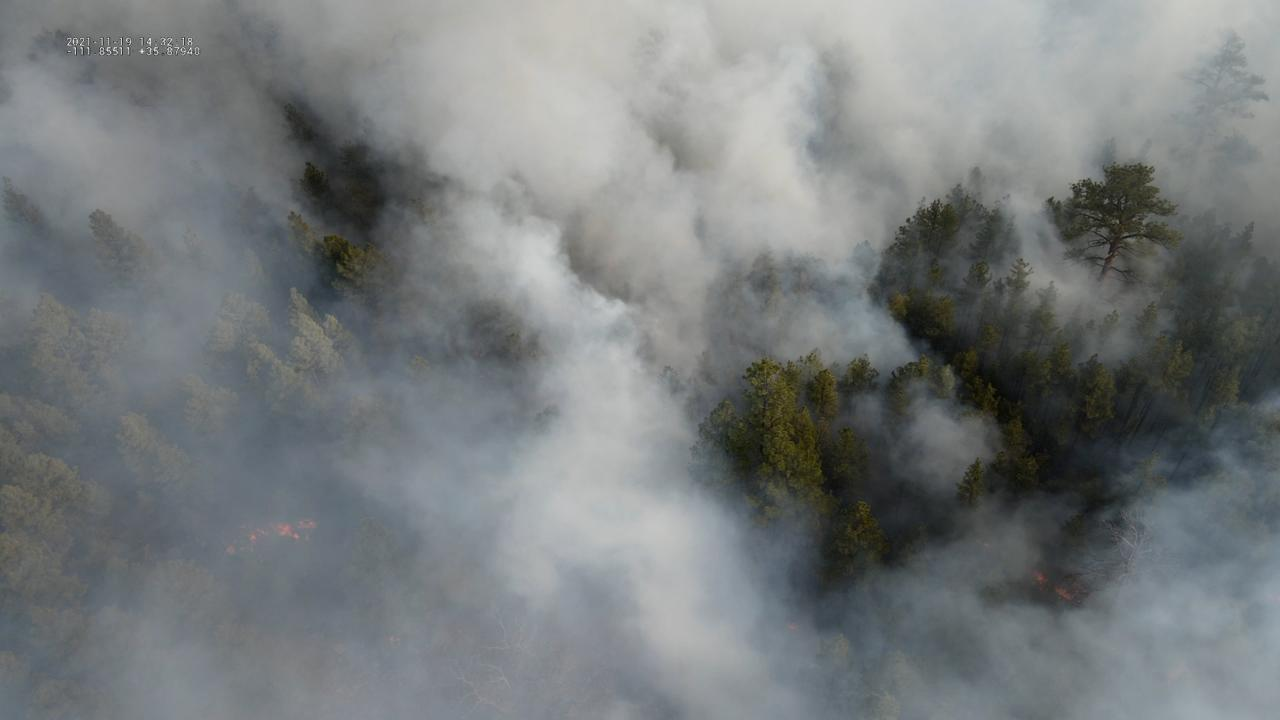fire: (225, 519, 317, 556), (1021, 563, 1047, 594), (1053, 584, 1074, 603)
smoke: (0, 0, 1280, 720)
